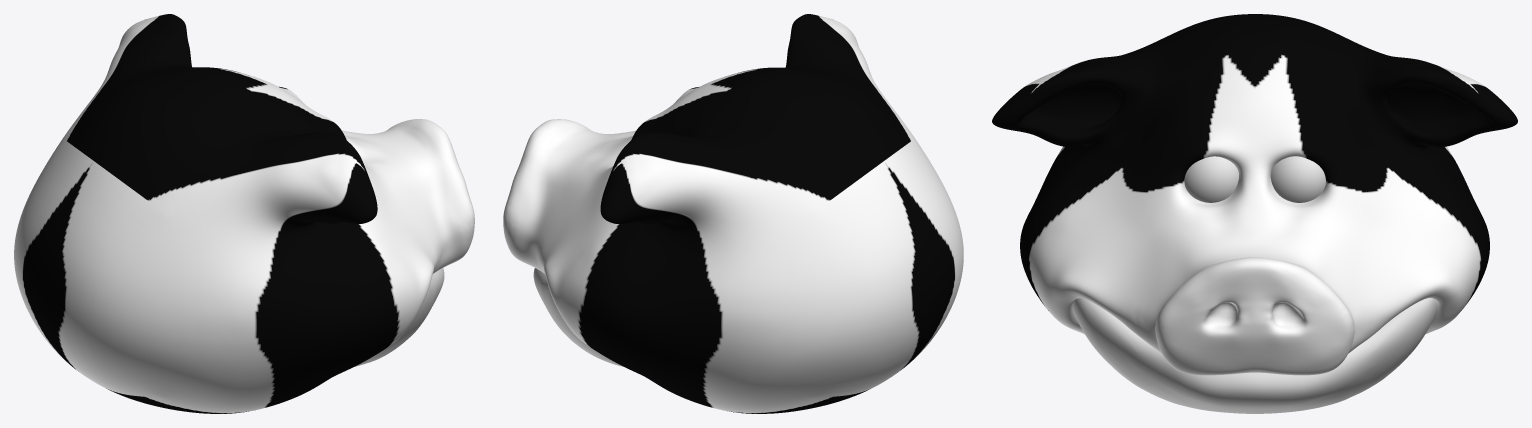
The model's file is pig.glb.
3 renders of one model, left to right at view 1: azimuth 30°, elevation 25°; view 2: azimuth 150°, elevation 25°; view 3: azimuth 270°, elevation 25°, orthographic. The views are drawn at different scales.
Parts seen in each view (by area): view 1: head, jaw; view 2: head, jaw; view 3: head, jaw, eye_right, eye_left.
Part boxes in pixels (<box>): head: <box>14,14,474,413</box>; jaw: <box>354,268,444,366</box>; head: <box>503,14,963,413</box>; jaw: <box>533,268,623,366</box>; head: <box>992,14,1517,375</box>; jaw: <box>1072,298,1437,413</box>; eye_right: <box>1270,156,1325,202</box>; eye_left: <box>1184,156,1238,202</box>.
Bounding box in the file's own units: 4.01 × 2.9 × 4.2.
Materials: 2 (1 with a texture image).
